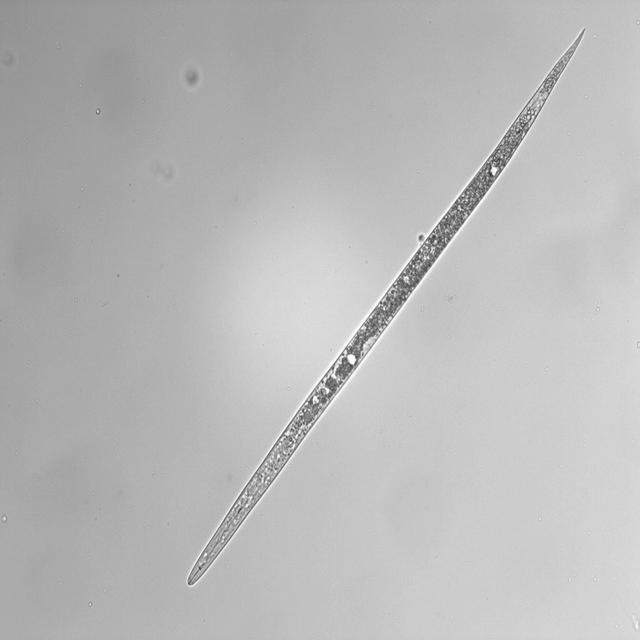Meloidogyne: (183, 25, 588, 590)
